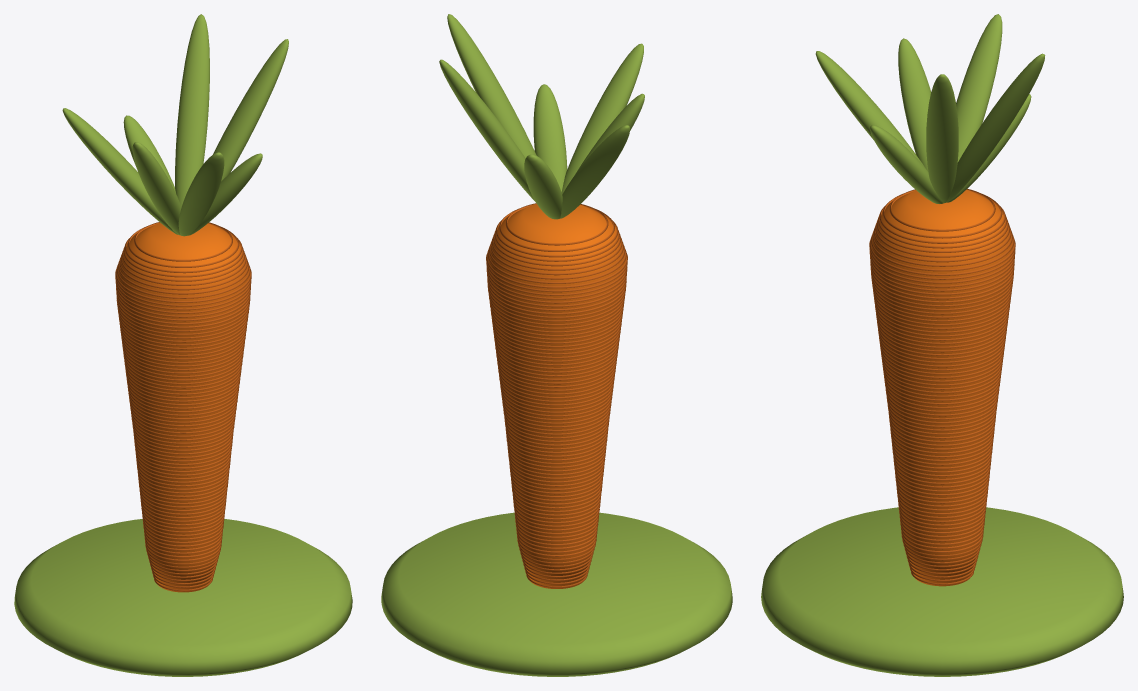
File: carrot-scratcher.glb
3 views of the same model, side by side, from view 1: azimuth 30°, elevation 25°; view 2: azimuth 150°, elevation 25°; view 3: azimuth 270°, elevation 25° (orthographic). The views are drawn at different scales.
Visible parts, largest first — view 1: carrot-scratcher; view 2: carrot-scratcher; view 3: carrot-scratcher.
Part boxes in pixels (box(x1,y1,x2,y2)): carrot-scratcher: box(14, 14, 352, 676); carrot-scratcher: box(381, 14, 732, 676); carrot-scratcher: box(761, 14, 1123, 676).
Size of the model in its own units: 0.4 by 0.7127 by 0.4.
